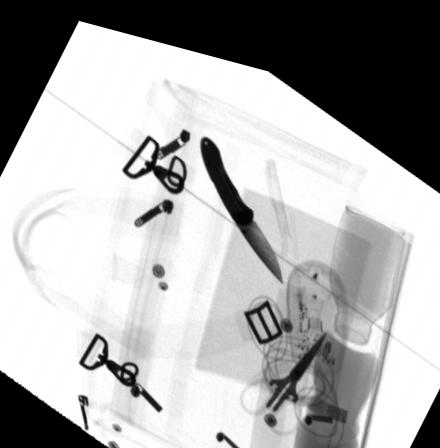Knife: (200, 125, 283, 268)
Scissors: (240, 316, 329, 419)
